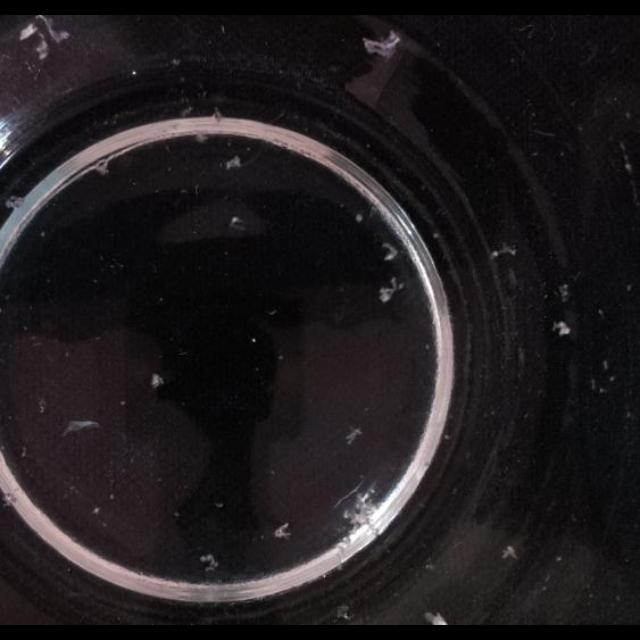Fibre: (362, 30, 401, 58), (618, 140, 634, 186), (378, 276, 404, 304), (62, 419, 101, 436), (491, 244, 517, 260), (200, 554, 220, 572), (344, 426, 362, 444), (1, 488, 17, 507), (274, 523, 292, 539), (224, 154, 242, 170), (556, 283, 570, 301), (228, 216, 246, 230), (501, 546, 517, 560), (150, 374, 164, 388), (194, 134, 210, 144), (212, 108, 222, 122)
microbeads: (552, 321, 570, 337), (214, 501, 222, 509), (92, 506, 100, 514), (444, 433, 451, 441), (109, 492, 115, 500), (174, 510, 180, 518), (120, 399, 126, 406), (424, 344, 430, 351), (250, 338, 256, 344)
